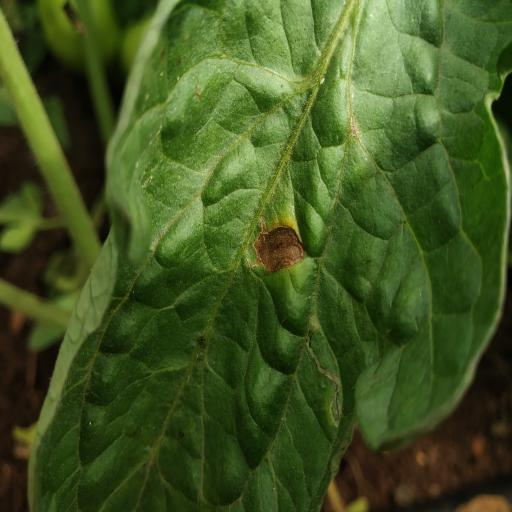disease_tomato: (21, 0, 512, 512)
